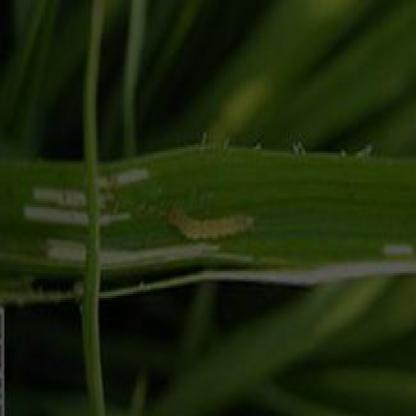leaf-folder: (160, 187, 266, 254)
